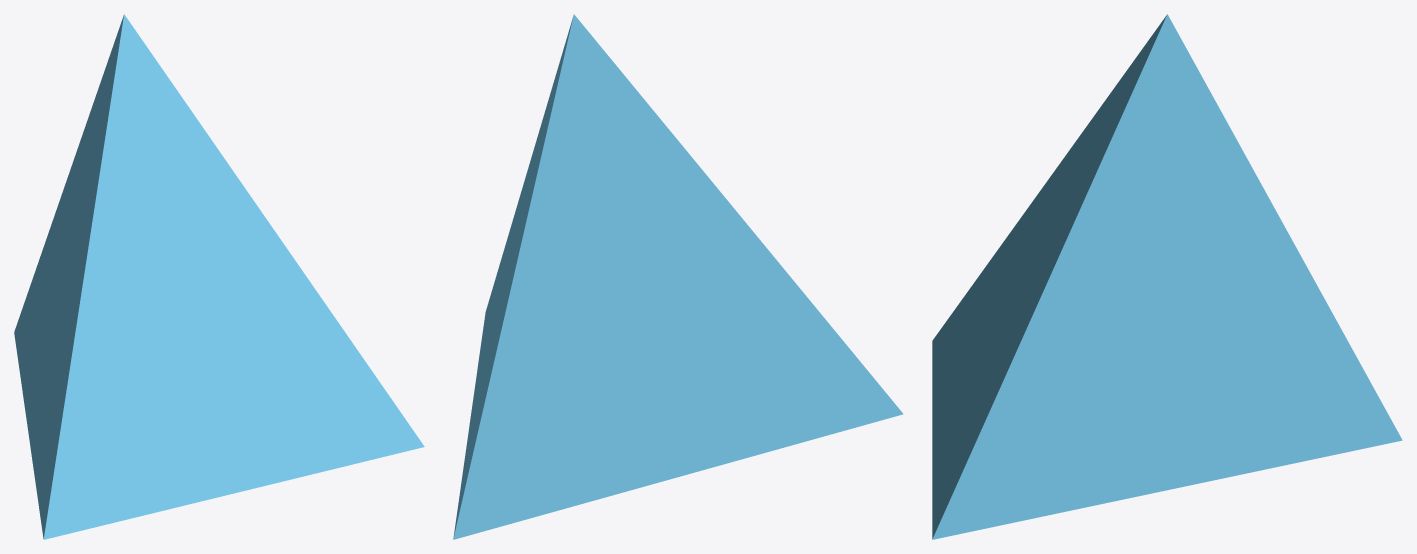
The model's file is tetrahedron.gltf.
The picture shows the model from 3 angles, left to right: view 1: azimuth 30°, elevation 25°; view 2: azimuth 150°, elevation 25°; view 3: azimuth 270°, elevation 25°; orthographic projection. The views are drawn at different scales.
Parts seen in each view (by area): view 1: Tetrahedron; view 2: Tetrahedron; view 3: Tetrahedron.
Part boxes in pixels (bbox=[...]): Tetrahedron: bbox=[14, 14, 424, 539]; Tetrahedron: bbox=[453, 14, 903, 539]; Tetrahedron: bbox=[932, 14, 1402, 539].
Bounding box in the file's own units: 2 × 2 × 2.
